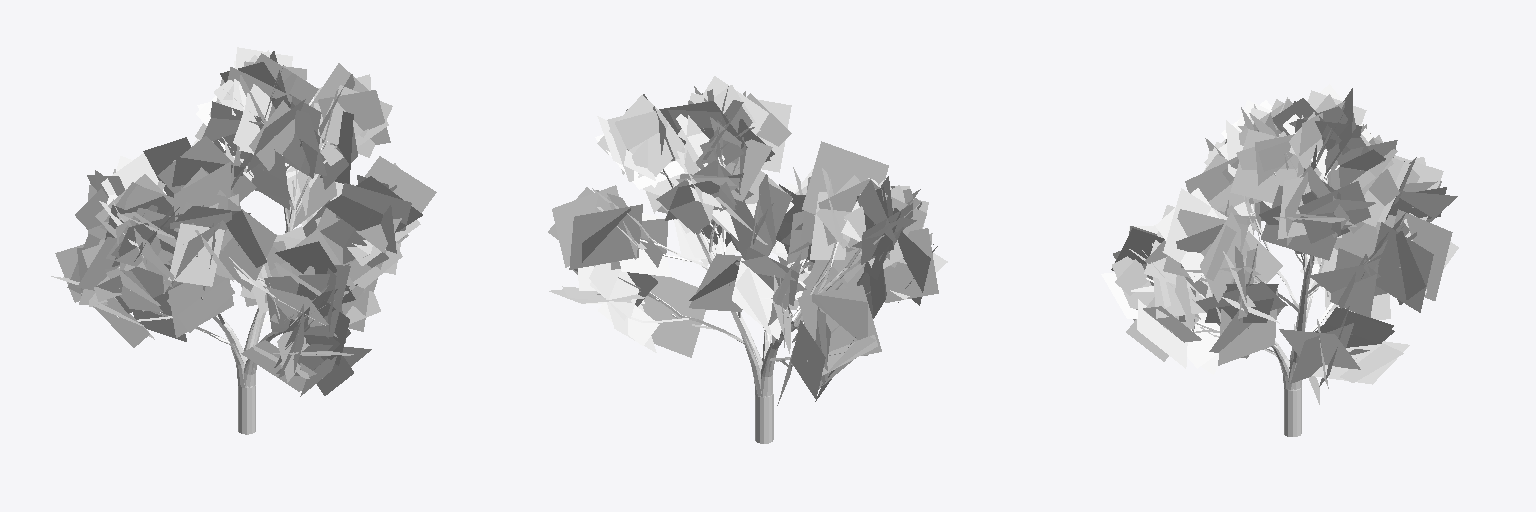
Rendered from Southern_Magnolia_Model_0.obj.
3 renders of one model, left to right at view 1: azimuth 30°, elevation 25°; view 2: azimuth 150°, elevation 25°; view 3: azimuth 270°, elevation 25°, orthographic.
Parts seen in each view (by area): view 1: Foliage__leafcard, Bark; view 2: Foliage__leafcard, Bark; view 3: Foliage__leafcard, Bark.
Part boxes in pixels (left/top/right/bottom): Foliage__leafcard: left=51, top=47, right=436, bottom=396; Bark: left=117, top=105, right=373, bottom=434; Foliage__leafcard: left=548, top=76, right=947, bottom=405; Bark: left=597, top=128, right=906, bottom=443; Foliage__leafcard: left=1101, top=84, right=1458, bottom=404; Bark: left=1163, top=139, right=1413, bottom=436.
Size of the model in its own units: 20.49 by 20 by 18.17.